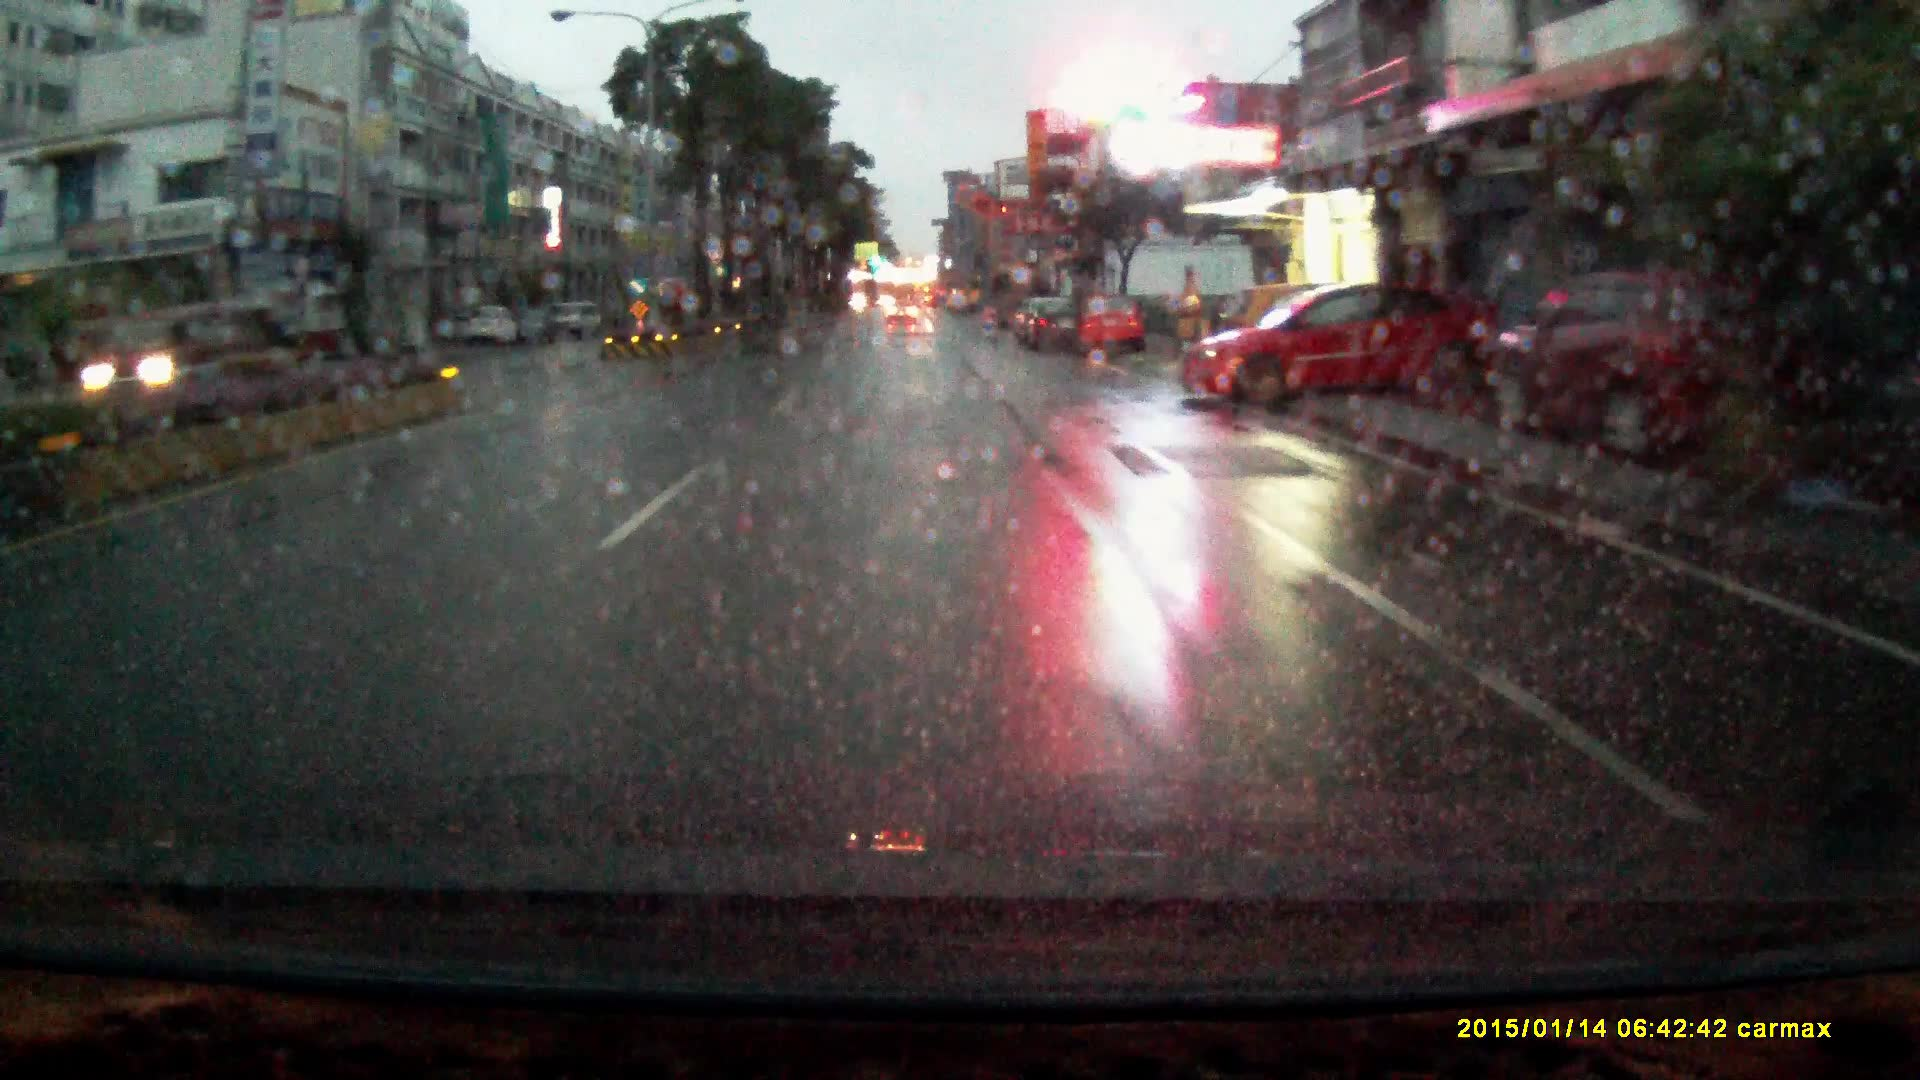vehicle: (1486, 272, 1799, 465), (1182, 282, 1509, 409), (90, 301, 266, 397), (1063, 301, 1151, 360), (1018, 301, 1083, 355), (467, 303, 518, 349), (549, 301, 607, 340), (887, 301, 918, 328)
